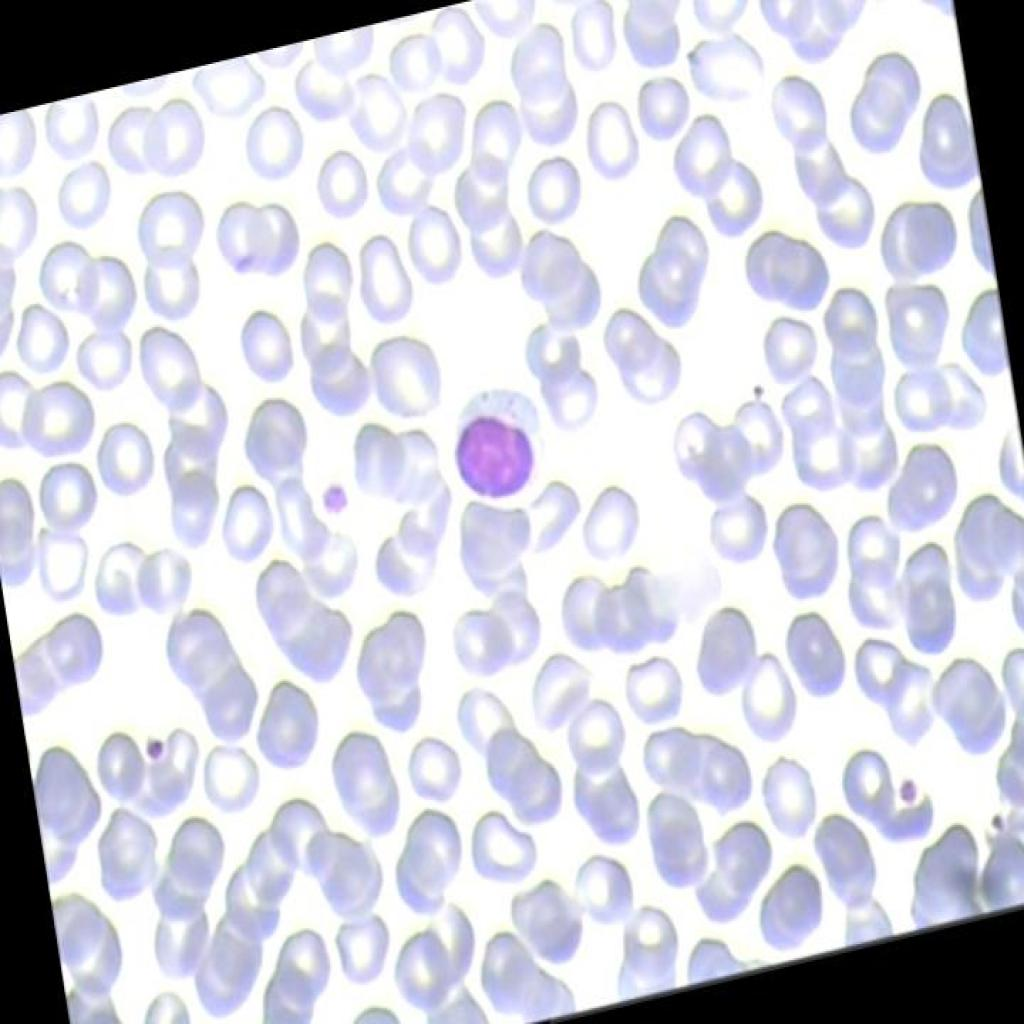Limfosit: (437, 372, 560, 522)
Platelet: (314, 469, 350, 521), (139, 724, 168, 774), (745, 373, 768, 409)
